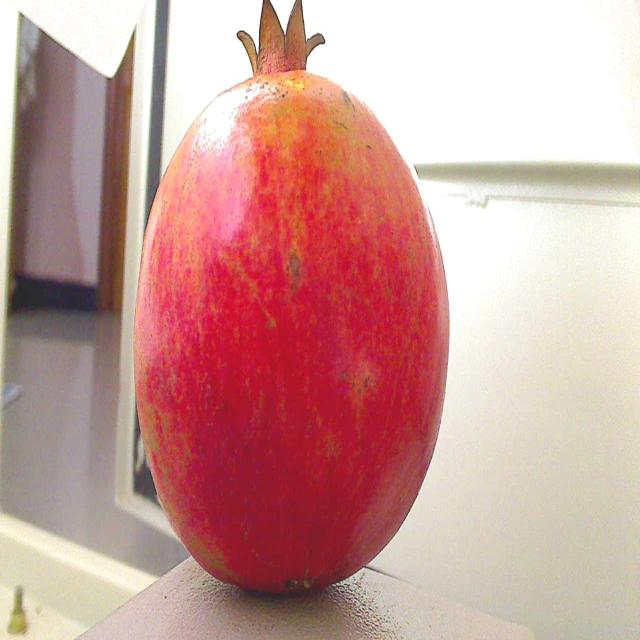pomegranate: (124, 0, 459, 604)
